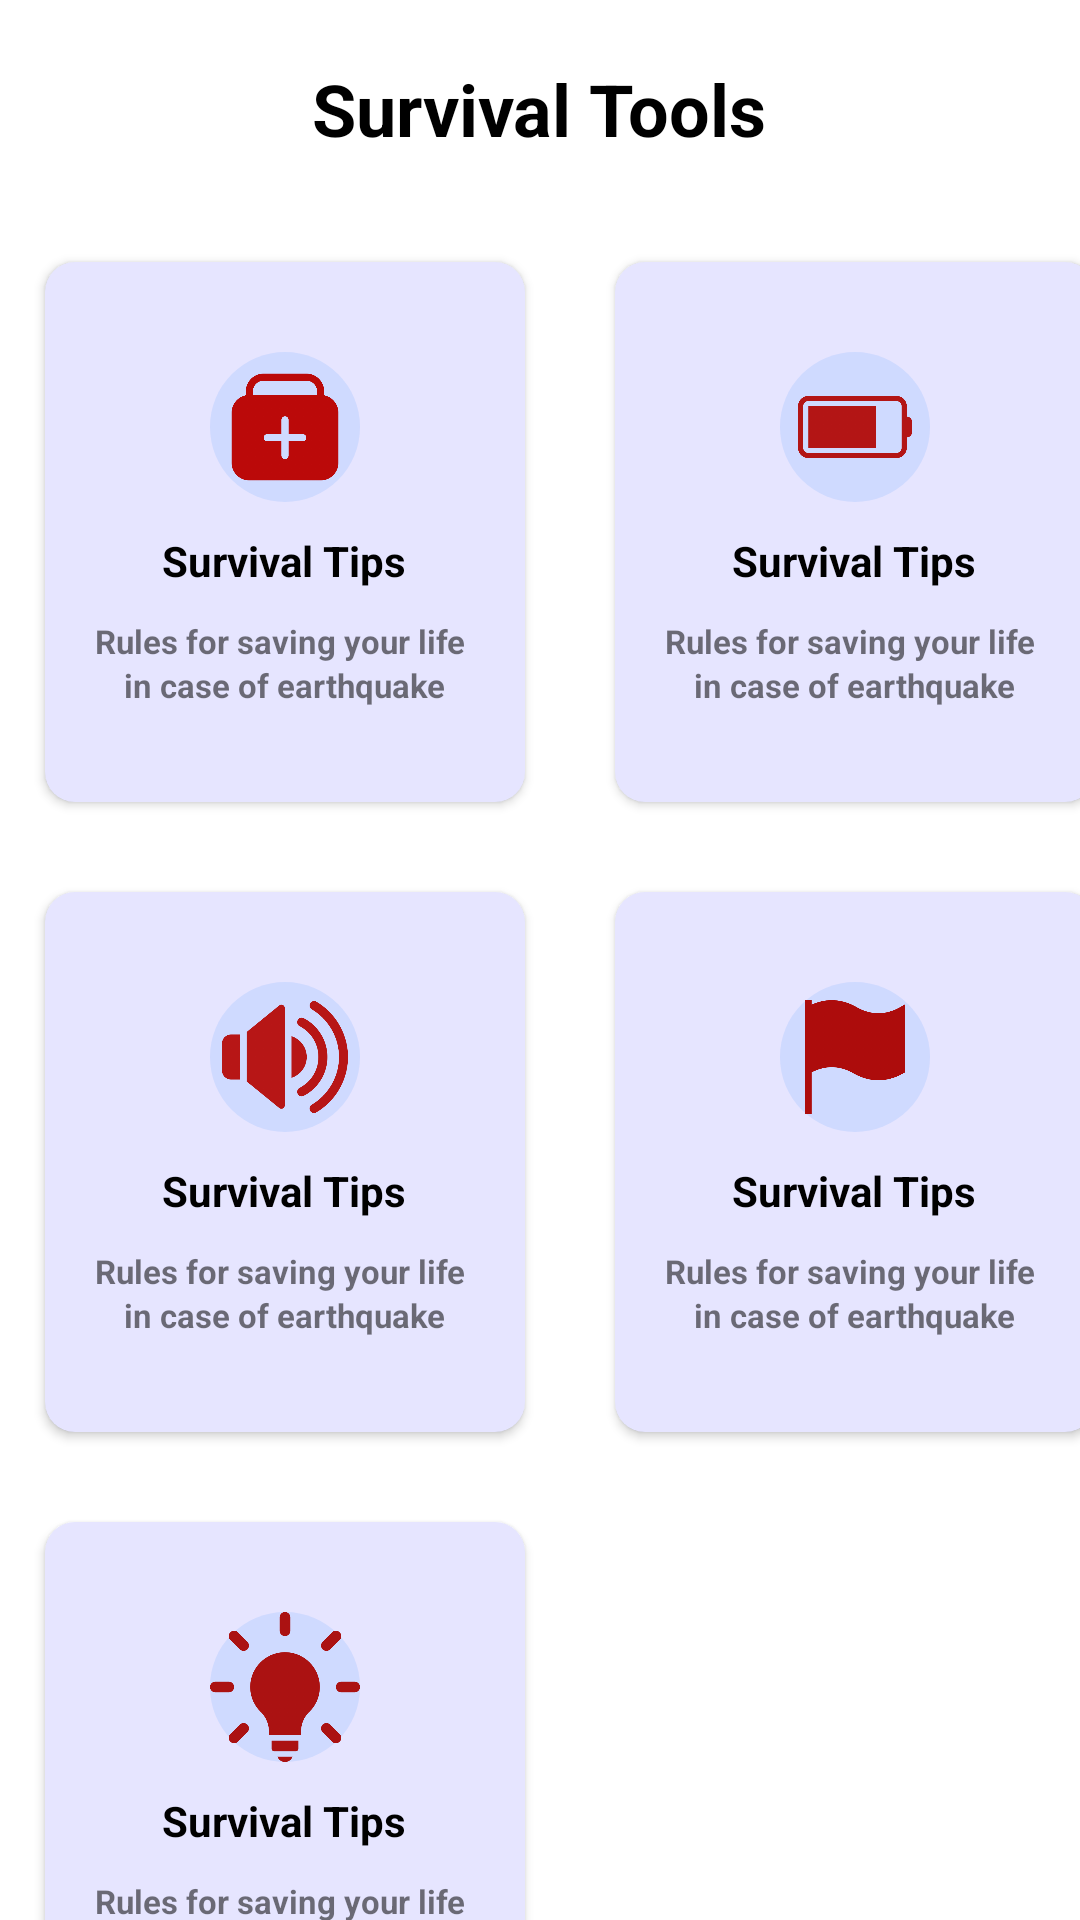

Locate icon controls on the screen. Image size 1080*1920, boxes as (x1, y1, x2, y2).
battery: (798, 396, 912, 458)
first add kit: (231, 373, 339, 481)
idea: (210, 1612, 360, 1762)
report: (805, 1000, 905, 1114)
volume: (210, 982, 360, 1132)
